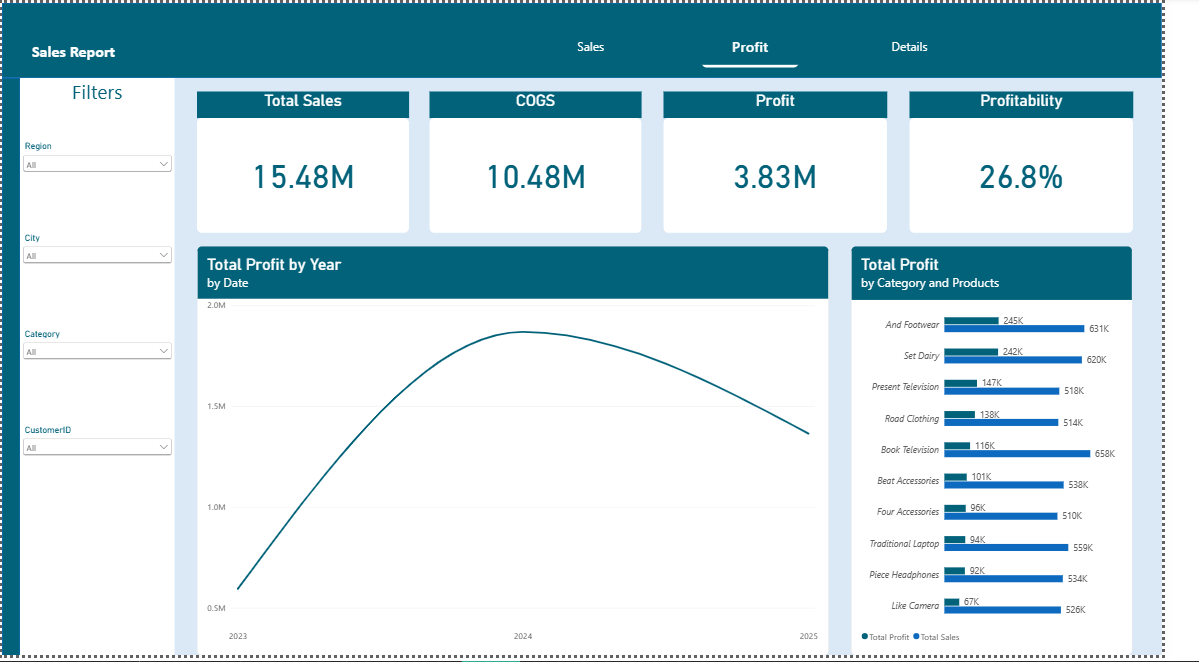

Layout of this report page (visuals, bound fields, positions):
{"tool":"powerbi","page":{"name":"Profit","canvas":[1920,1080],"ordinal":1},"visuals":[{"type":"shape","box":[0,0,1920.7,124.2],"z":0},{"type":"shape","box":[0,124.2,29.8,956.6],"z":1000},{"type":"shape","box":[29.8,124.2,255.9,956.6],"z":2000},{"type":"textbox","box":[48.8,63.4,312.2,43.9],"z":3000},{"type":"cardVisual","title":"Total Sales","fields":{"Data":["Transactions.Total Sales"]},"box":[322,146.3,351.2,234.1],"z":4000},{"type":"cardVisual","title":"Profit","fields":{"Data":["Transactions.Total Profit"]},"box":[1095.9,146.3,370.7,234.1],"z":5000},{"type":"cardVisual","title":"Profitability","fields":{"Data":["Transactions.Profitability"]},"box":[1502.4,146.3,370.7,234.1],"z":6000},{"type":"clusteredBarChart","title":"Total Profit","fields":{"Category":["Products.ProductName"],"Y":["Transactions.Total Profit","Transactions.Total Sales"]},"box":[1407.3,402.4,465.9,678],"z":7000},{"type":"cardVisual","title":"COGS","fields":{"Data":["Transactions.COGS"]},"box":[708.9,146.3,351.2,234.1],"z":8000},{"type":"lineChart","fields":{"Category":["Transactions.Date.Variation.Date Hierarchy.Year","Transactions.Date.Variation.Date Hierarchy.Quarter","Transactions.Date.Variation.Date Hierarchy.Month","Transactions.Date.Variation.Date Hierarchy.Day"],"Y":["Transactions.Total Profit"]},"box":[322,402.4,1046.3,678],"z":9000},{"type":"textbox","box":[29.3,124.4,256.1,104.9],"z":10000},{"type":"slicer","fields":{"Values":["Stores.Region"]},"box":[29.3,229.3,256.1,136.6],"z":11000},{"type":"slicer","fields":{"Values":["Stores.City"]},"box":[29.3,380.5,256.1,158.5],"z":12000},{"type":"slicer","fields":{"Values":["Products.Category"]},"box":[29.3,539,256.1,158.5],"z":13000},{"type":"slicer","fields":{"Values":["Customers.CustomerID"]},"box":[29.3,697.6,256.1,158.5],"z":14000},{"type":"pageNavigator","box":[846.3,17.1,785.4,90.2],"z":15000}]}

Visuals, with their boxes in screenshot pixels (x1, y1, x2, y2), scaled from the page's 1920x1080 canvas onto the 1199x662 screenshot:
shape: <region>0, 0, 1198, 76</region>
shape: <region>0, 76, 19, 661</region>
shape: <region>19, 76, 178, 661</region>
textbox: <region>30, 39, 225, 66</region>
"Total Sales" cardVisual: <region>201, 90, 420, 233</region>
"Profit" cardVisual: <region>684, 90, 916, 233</region>
"Profitability" cardVisual: <region>938, 90, 1170, 233</region>
"Total Profit" clusteredBarChart: <region>879, 247, 1170, 661</region>
"COGS" cardVisual: <region>443, 90, 662, 233</region>
lineChart - Transactions.Date.Variation.Date Hierarchy.Year x Transactions.Date.Variation.Date Hierarchy.Quarter: <region>201, 247, 854, 661</region>
textbox: <region>18, 76, 178, 141</region>
slicer - Stores.Region: <region>18, 141, 178, 224</region>
slicer - Stores.City: <region>18, 233, 178, 330</region>
slicer - Products.Category: <region>18, 330, 178, 428</region>
slicer - Customers.CustomerID: <region>18, 428, 178, 525</region>
pageNavigator: <region>528, 10, 1019, 66</region>
